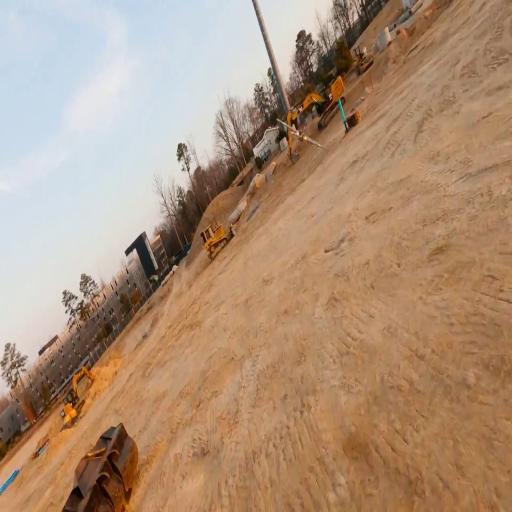uav: (275, 118, 327, 152)
